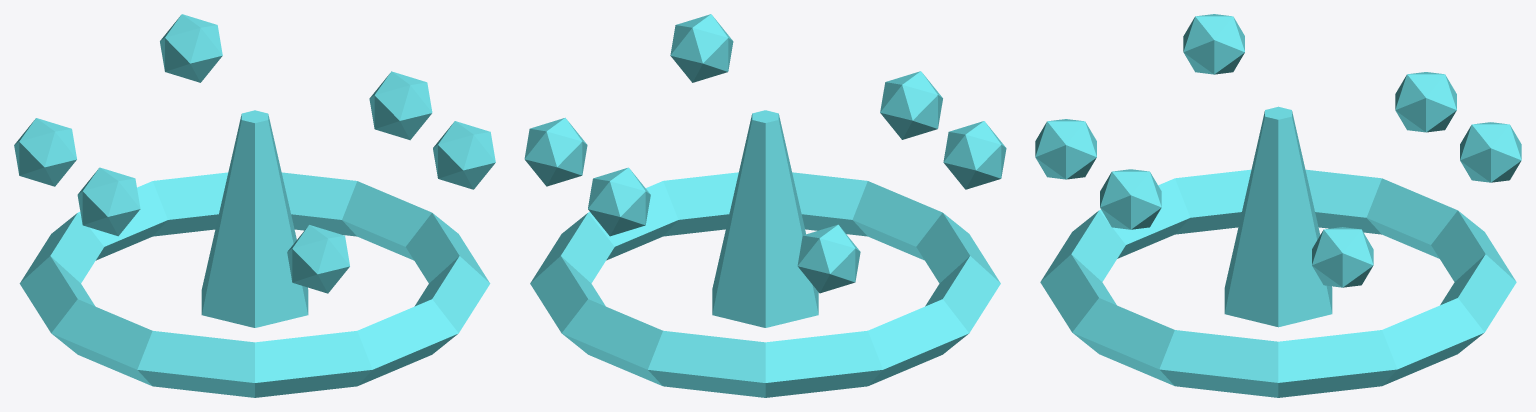
Rendered from splash.glb.
3 views of the same model, side by side, from view 1: azimuth 30°, elevation 25°; view 2: azimuth 150°, elevation 25°; view 3: azimuth 270°, elevation 25° (orthographic).
Parts seen in each view (by area): view 1: Ring, Spout, D0, D3, D4, D5, D1, D2; view 2: Ring, Spout, D2, D0, D5, D3, D4, D1; view 3: Ring, Spout, D0, D1, D2, D4, D5, D3.
Boxes of the visible parts, <box> form: Ring: <box>19,172,490,397</box>; Spout: <box>201,110,308,327</box>; D0: <box>369,71,432,140</box>; D3: <box>77,167,140,236</box>; D4: <box>287,225,349,293</box>; D5: <box>433,121,495,189</box>; D1: <box>160,14,222,82</box>; D2: <box>14,118,76,186</box>; Ring: <box>530,172,1000,397</box>; Spout: <box>712,110,818,327</box>; D2: <box>797,224,860,293</box>; D0: <box>524,117,587,186</box>; D5: <box>670,14,733,82</box>; D3: <box>943,121,1006,189</box>; D4: <box>880,71,942,139</box>; D1: <box>588,167,650,236</box>; Ring: <box>1040,169,1516,397</box>; Spout: <box>1224,106,1332,327</box>; D0: <box>1312,227,1373,287</box>; D1: <box>1460,122,1521,182</box>; D2: <box>1395,72,1456,132</box>; D4: <box>1035,119,1096,179</box>; D5: <box>1100,169,1161,229</box>; D3: <box>1183,14,1244,74</box>.
Size of the model in its own units: 0.9211 by 0.4395 by 0.9391.
